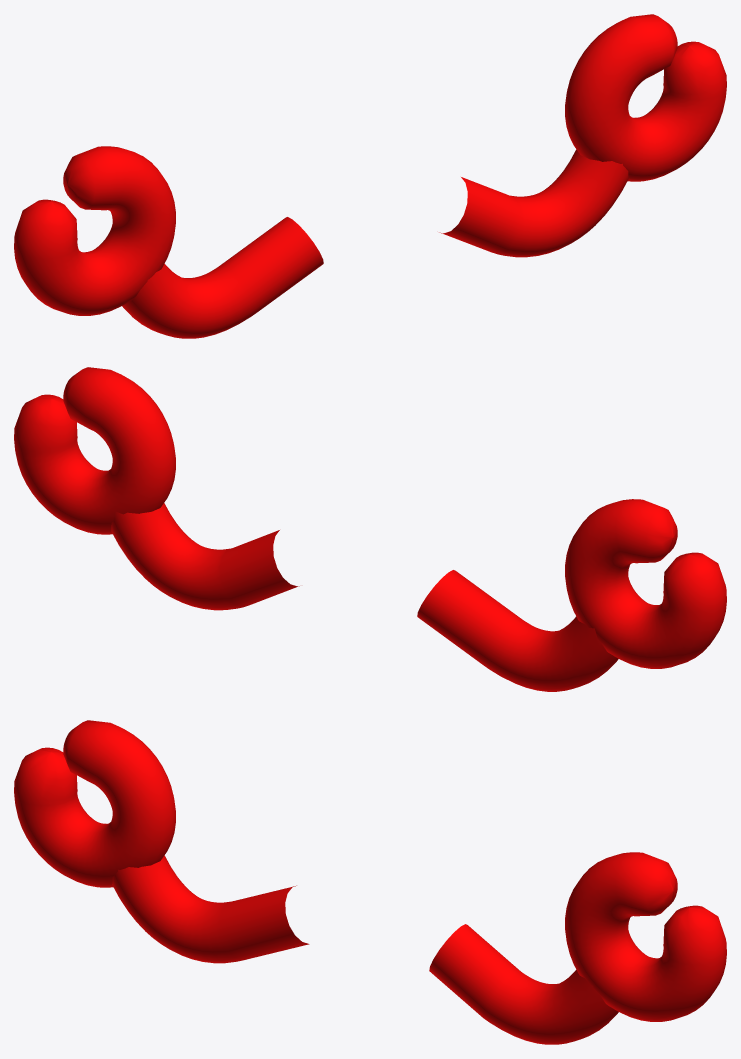
The model's file is Hands1.glb.
3 views of the same model, one above another, from view 1: azimuth 30°, elevation 25°; view 2: azimuth 150°, elevation 25°; view 3: azimuth 330°, elevation 25° (orthographic).
Parts seen in each view (by area): view 1: Hands1; view 2: Hands1; view 3: Hands1.
Part boxes in pixels (bbox=[...]): Hands1: bbox=[14, 14, 726, 338]; Hands1: bbox=[14, 367, 726, 691]; Hands1: bbox=[14, 720, 726, 1044].
Bounding box in the file's own units: 481 × 136 × 37.68.
